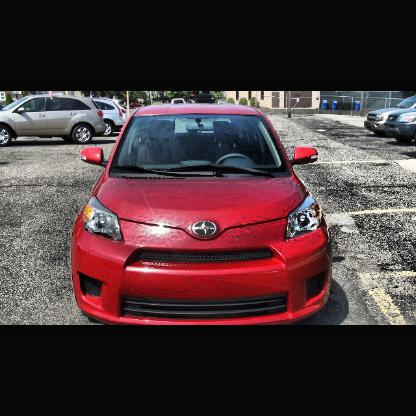Scion xD Hatchback 2012: (70, 103, 337, 325)
